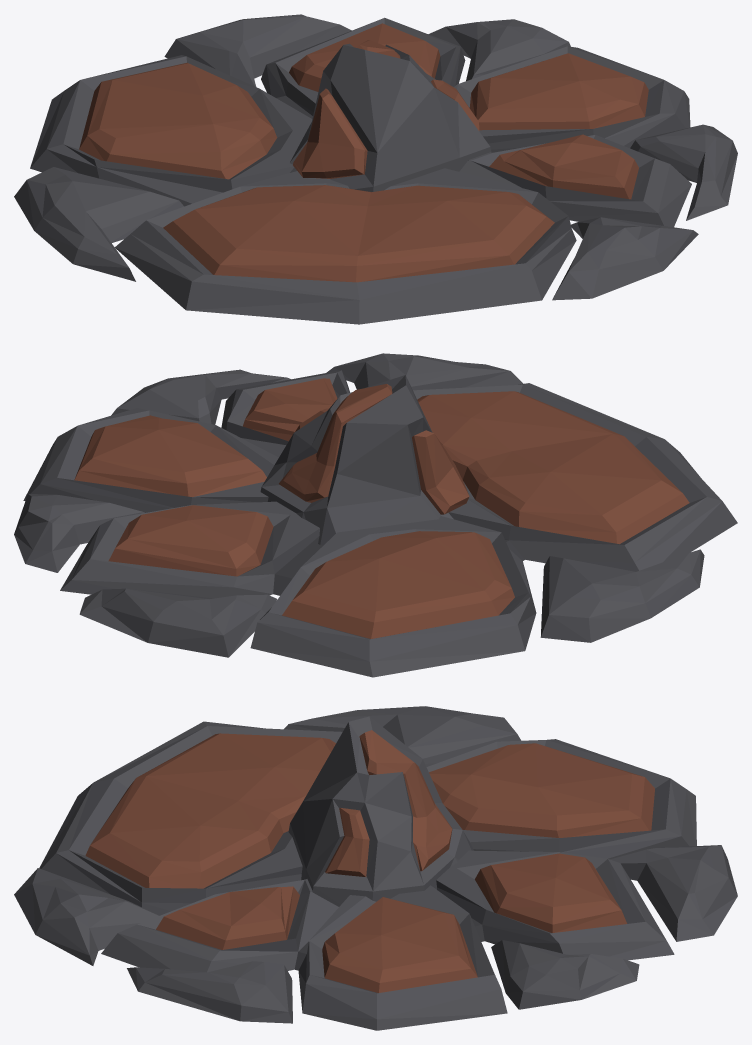
Rendered from SM_Iron_Node.fbx.
The picture shows the model from 3 angles, top to bottom: view 1: azimuth 30°, elevation 25°; view 2: azimuth 150°, elevation 25°; view 3: azimuth 270°, elevation 25°; orthographic projection.
Visible parts, largest first — view 1: SM_Iron_Node_Base, SM_Iron_Node_Ore; view 2: SM_Iron_Node_Base, SM_Iron_Node_Ore; view 3: SM_Iron_Node_Base, SM_Iron_Node_Ore.
Boxes of the visible parts, x1,y1,x2,y2 form: SM_Iron_Node_Base: (14, 14, 737, 324); SM_Iron_Node_Ore: (290, 40, 491, 191); SM_Iron_Node_Base: (14, 353, 737, 677); SM_Iron_Node_Ore: (260, 375, 469, 545); SM_Iron_Node_Base: (14, 706, 737, 1030); SM_Iron_Node_Ore: (288, 716, 473, 906).
Bounding box in the file's own units: 195 × 41.93 × 193.
